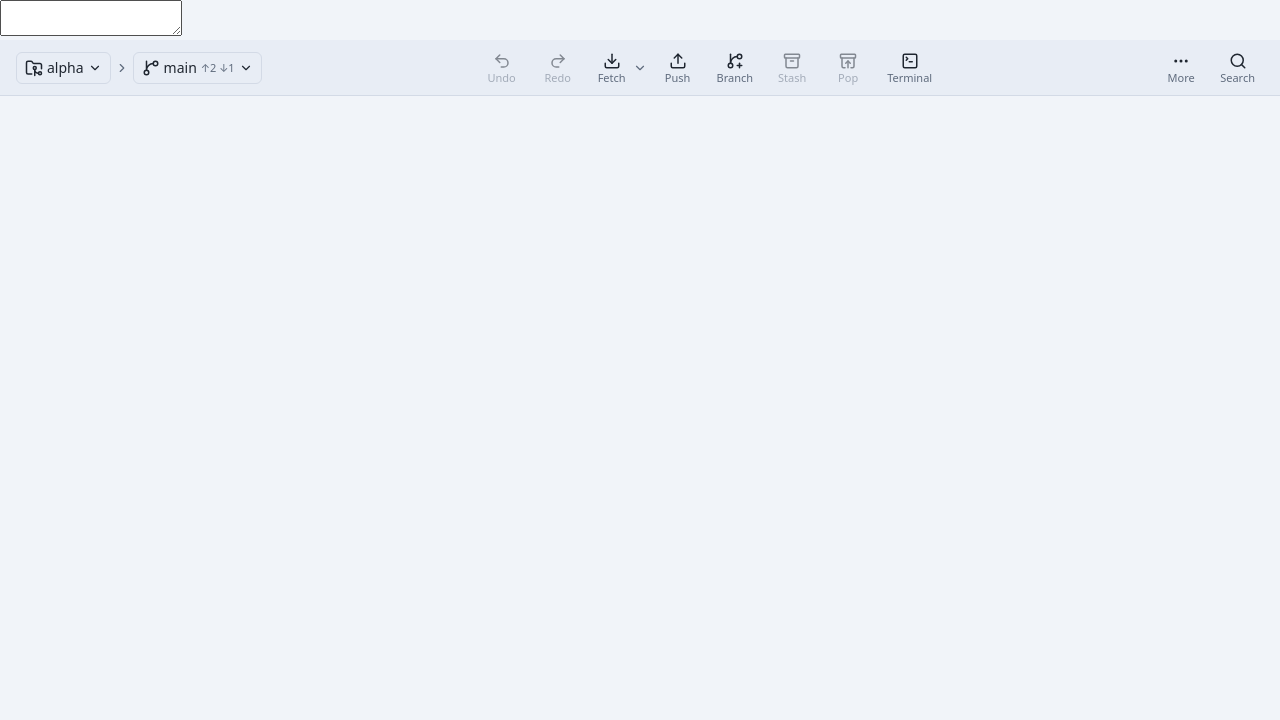
Scenario: Ribbon misc › branch dropdown lists, filters and checks out a branch
Click the button with aria-label "Branch picker". click: (197, 68)
box: [133,52,262,84]
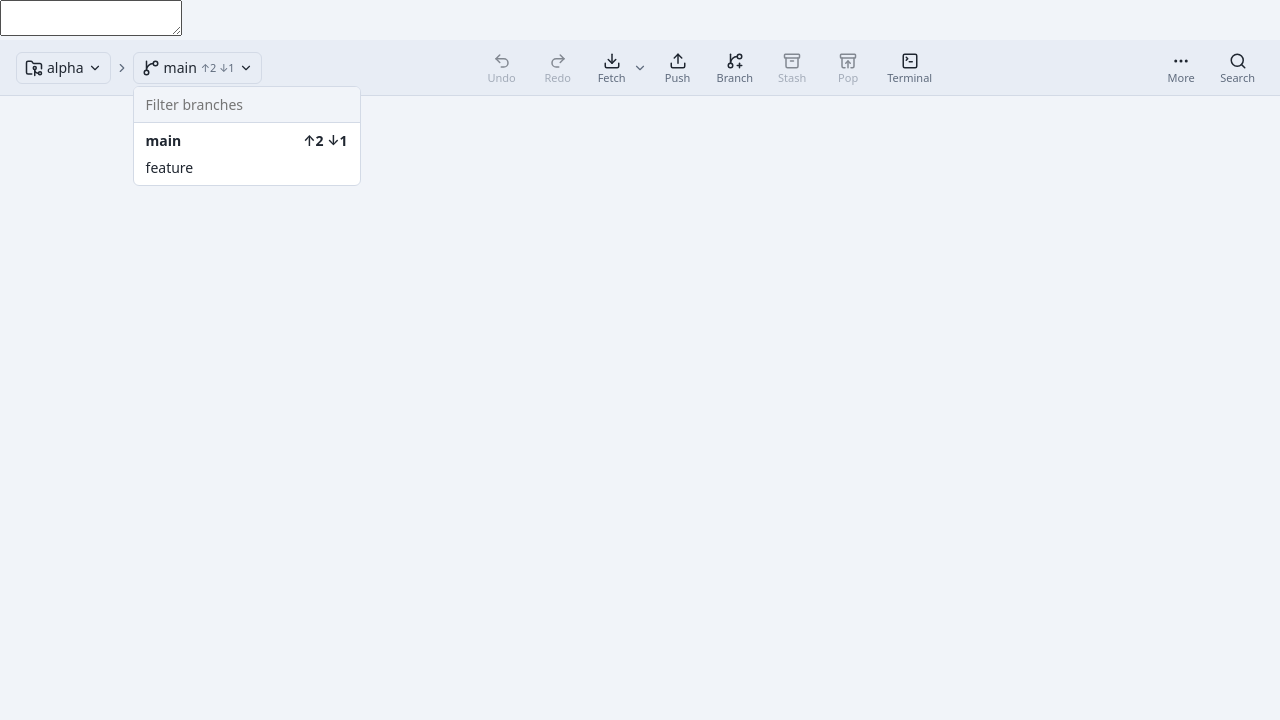
Expected: the button "feature" is shown, [134,154,360,180]
Type "zzz" into the field labelled "Filter branches". click: (247, 104)
box: [134,86,360,122]
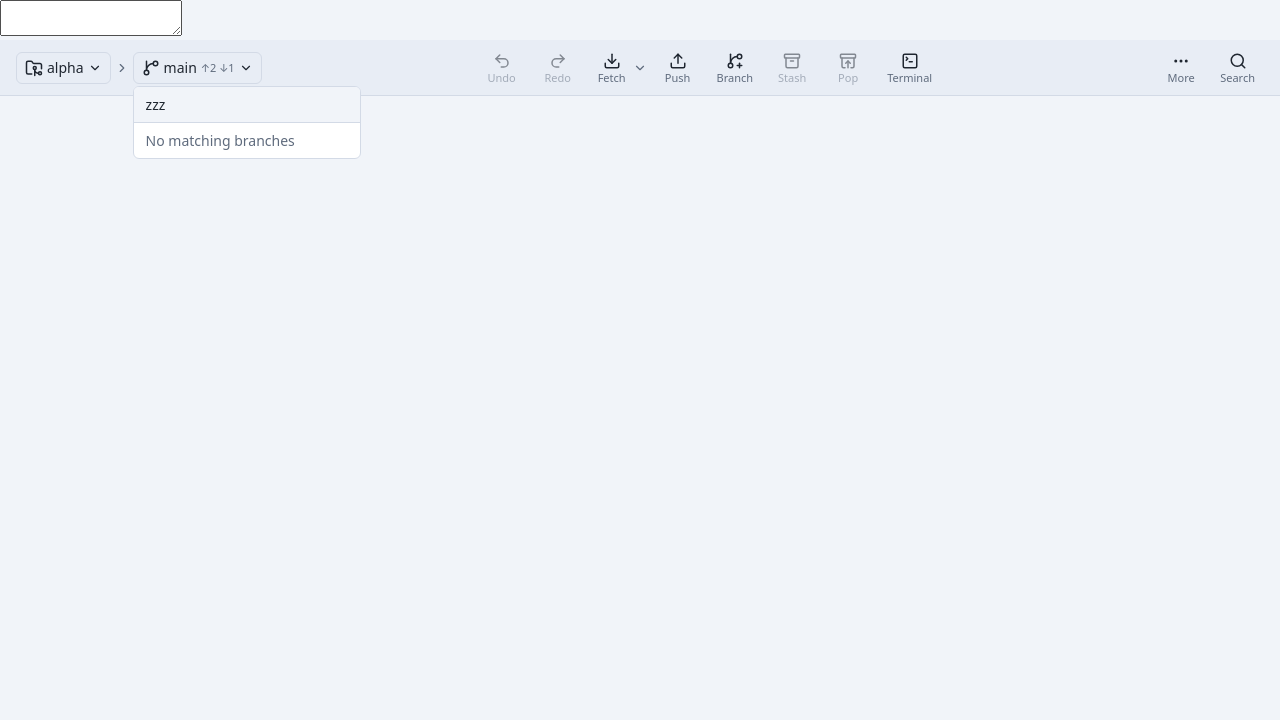
Expected: the text "No matching branches" is shown, [146,130,295,150]
Replace the text in the field named "Filter branches" with "feat". click: (247, 104)
box: [134,86,360,122]
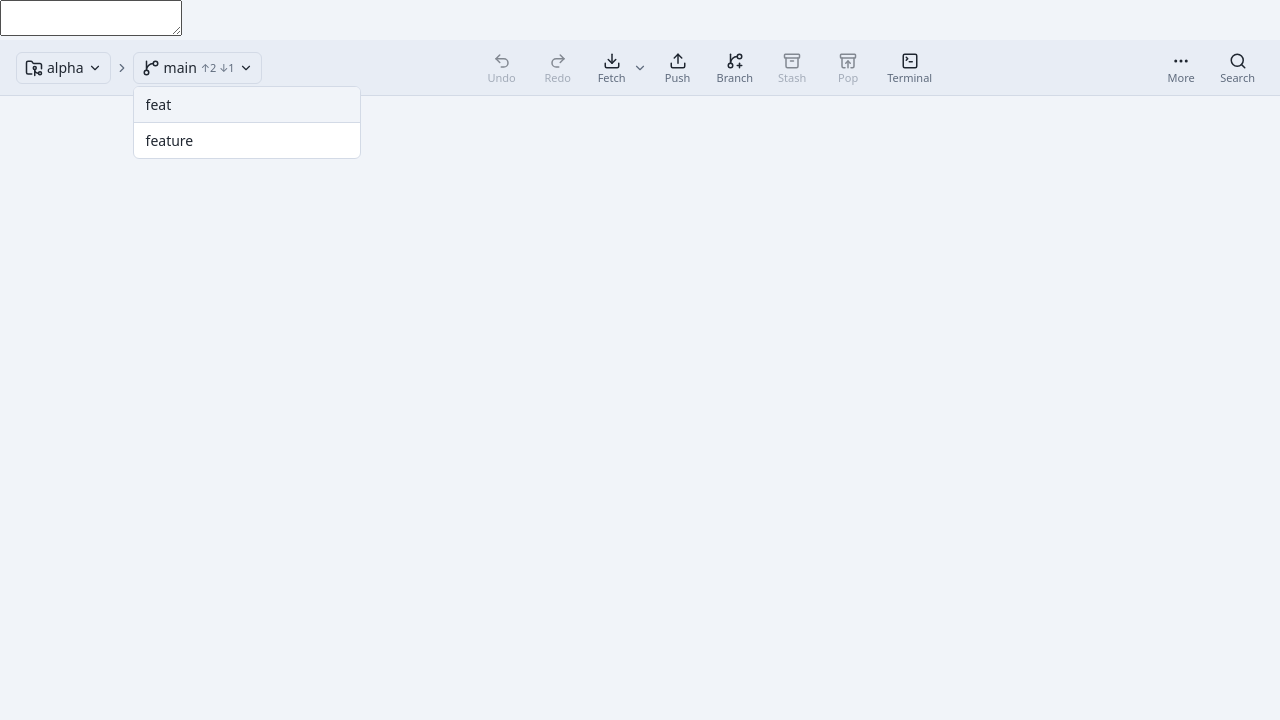
Click the button "feature". click: (247, 140)
box: [134,126,360,154]
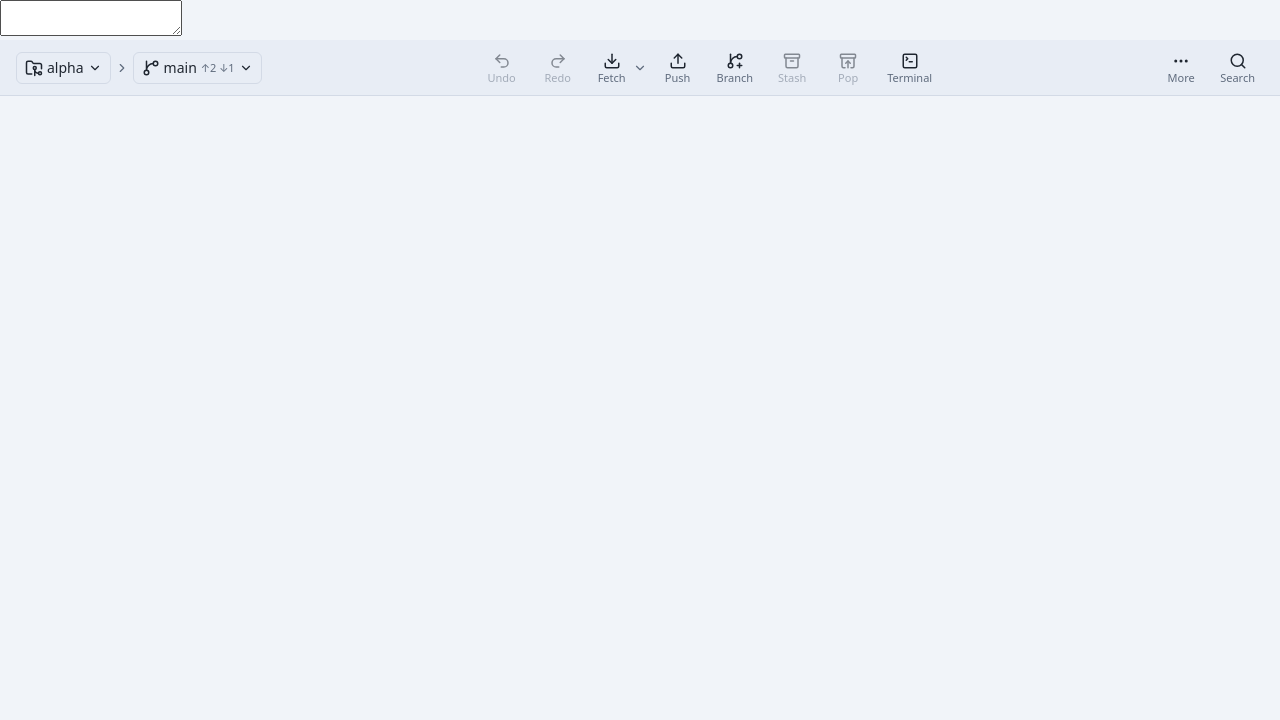
Expected: the dialog is gone
